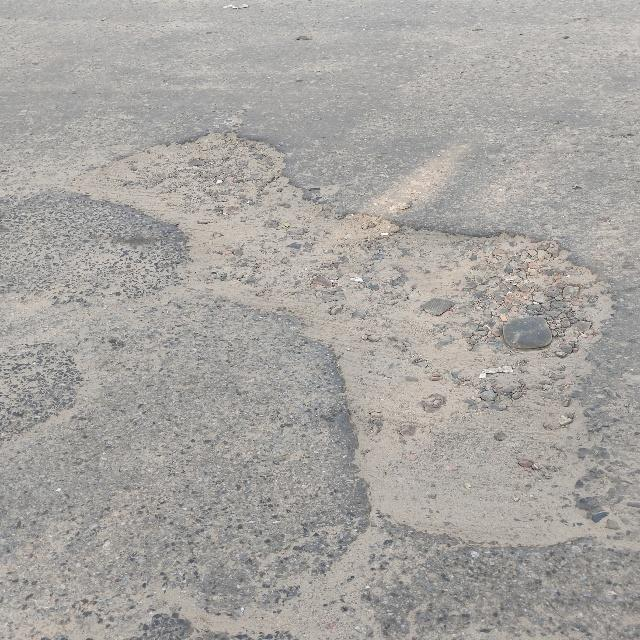Surface Erosion: (51, 89, 640, 603)
